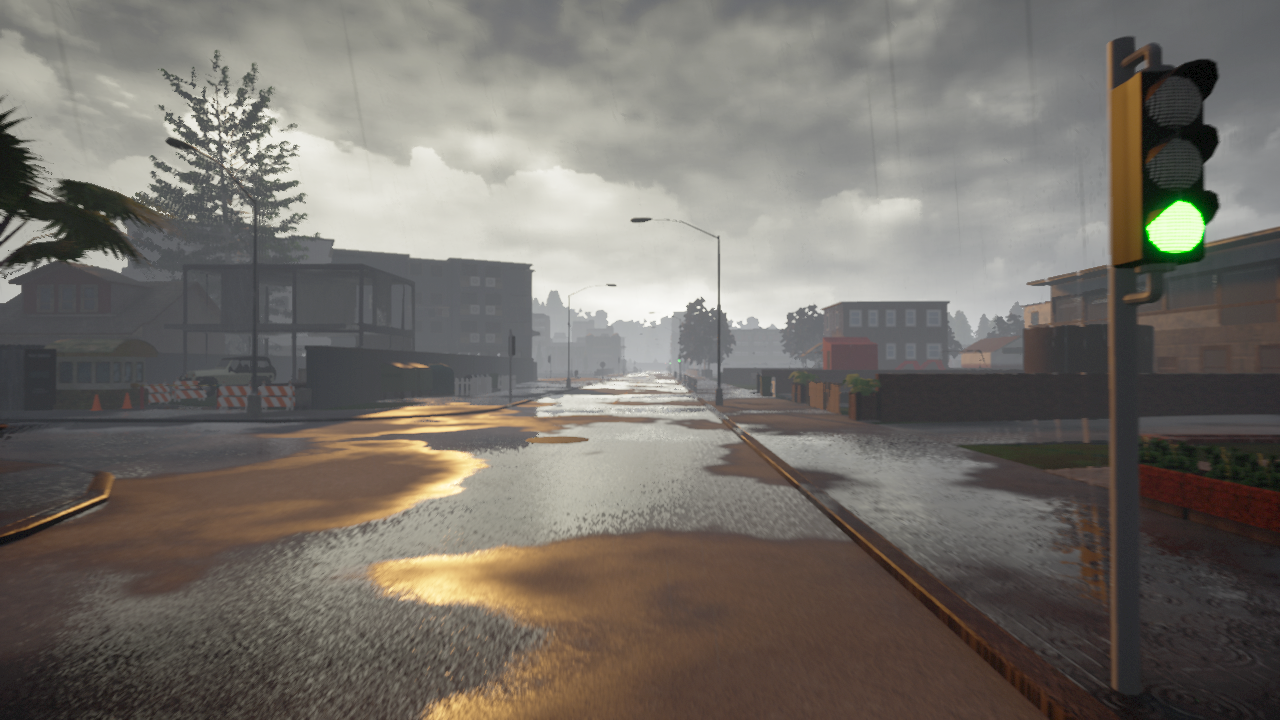green: (1109, 43, 1235, 285)
